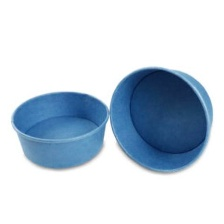paper_cup: (105, 61, 219, 178), (7, 85, 110, 172)
